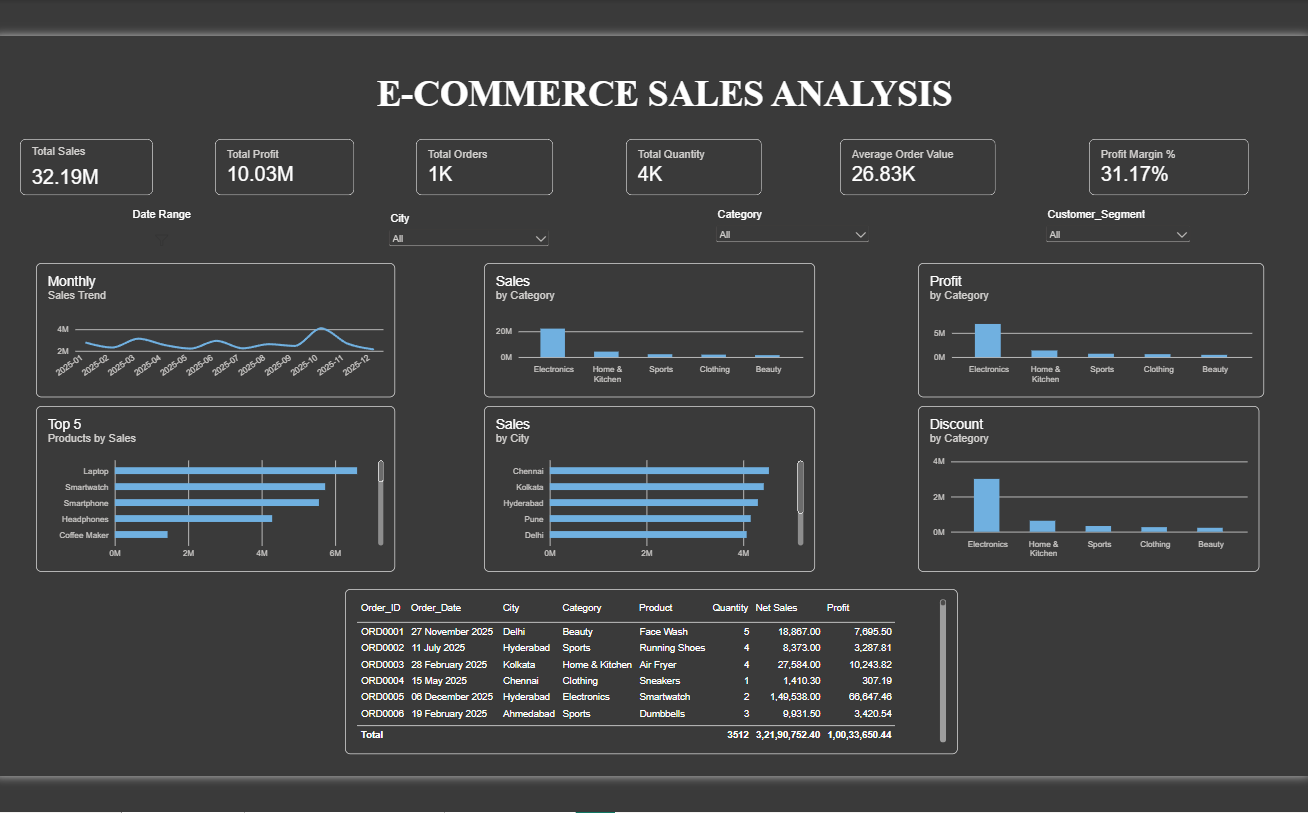

This screenshot's page, from the dashboard's own definition file:
{"tool":"powerbi","page":{"name":"Sales Overview","canvas":[1920,1080],"ordinal":0},"visuals":[{"type":"cardVisual","fields":{"Data":["DateTable.Total Sales"]},"box":[38.3,150.2,194.4,82.5],"z":0},{"type":"cardVisual","fields":{"Data":["DateTable.Total Profit"]},"box":[322.9,150.2,203.2,82.5],"z":1000},{"type":"cardVisual","fields":{"Data":["DateTable.Total Orders Display"]},"box":[615.5,150.2,200.2,82.5],"z":2000},{"type":"cardVisual","fields":{"Data":["DateTable.Total Quantity"]},"box":[921.7,150.2,198.3,82.5],"z":3000},{"type":"cardVisual","fields":{"Data":["DateTable.Average Order Value"]},"box":[1233.9,150.2,227.7,82.5],"z":4000},{"type":"cardVisual","fields":{"Data":["DateTable.Profit Margin %"]},"box":[1597.1,150.2,233.6,82.5],"z":5000},{"type":"lineChart","title":"Monthly","fields":{"Category":["DateTable.Year Month"],"Y":["DateTable.Total Sales"]},"box":[60.9,331.8,524.2,196.3],"z":6000},{"type":"columnChart","title":"Sales","fields":{"Category":["ecommerce_sales_cleaned.Category"],"Y":["DateTable.Total Sales"]},"box":[715.6,331.8,482.9,196.3],"z":7000},{"type":"clusteredColumnChart","title":"Profit","fields":{"Category":["ecommerce_sales_cleaned.Category"],"Y":["DateTable.Total Profit"]},"box":[1347.7,331.8,504.5,196.3],"z":8000},{"type":"clusteredBarChart","title":"Top 5","fields":{"Category":["ecommerce_sales_cleaned.Product"],"Y":["DateTable.Total Sales"]},"box":[60.9,539.9,524.2,242.5],"z":9000},{"type":"clusteredBarChart","title":"Sales","fields":{"Category":["ecommerce_sales_cleaned.City"],"Y":["DateTable.Total Sales"]},"box":[715.6,539.9,482.9,242.5],"z":10000},{"type":"clusteredColumnChart","title":"Discount","fields":{"Category":["ecommerce_sales_cleaned.Category"],"Y":["DateTable.Total Discount"]},"box":[1347.7,539.9,497.7,242.5],"z":11000},{"type":"tableEx","fields":{"Values":["ecommerce_sales_cleaned.Order_ID","ecommerce_sales_cleaned.Order_Date","ecommerce_sales_cleaned.City","ecommerce_sales_cleaned.Category","ecommerce_sales_cleaned.Product","Sum(ecommerce_sales_cleaned.Quantity)","Sum(ecommerce_sales_cleaned.Net_Sales)","Sum(ecommerce_sales_cleaned.Profit)"]},"box":[512.4,806.9,894.2,241.5],"z":12000},{"type":"actionButton","box":[0,0,100,40],"z":13000},{"type":"textbox","box":[538.4,39.4,868.1,99.2],"z":14000},{"type":"slicer","title":"Date Range","fields":{"Values":["DateTable.Date"]},"box":[135.5,251.3,217.9,60.9],"z":14001},{"type":"slicer","fields":{"Values":["ecommerce_sales_cleaned.City"]},"box":[570.3,256.2,245.4,59.9],"z":14002},{"type":"slicer","fields":{"Values":["ecommerce_sales_cleaned.Category"]},"box":[1047.4,251.3,234.6,64.8],"z":14003},{"type":"slicer","fields":{"Values":["ecommerce_sales_cleaned.Customer_Segment"]},"box":[1528.3,251.3,221.8,64.8],"z":14004}]}

Visuals, with their boxes on the page's 1920x1080 design canvas (x1, y1, x2, y2). These are canvas units, not pixel positions in the 1308x813 screenshot, which may show the page scaled, cropped or inside an application window:
cardVisual - DateTable.Total Sales: 38:150:233:233
cardVisual - DateTable.Total Profit: 323:150:526:233
cardVisual - DateTable.Total Orders Display: 616:150:816:233
cardVisual - DateTable.Total Quantity: 922:150:1120:233
cardVisual - DateTable.Average Order Value: 1234:150:1462:233
cardVisual - DateTable.Profit Margin %: 1597:150:1831:233
"Monthly" lineChart: 61:332:585:528
"Sales" columnChart: 716:332:1198:528
"Profit" clusteredColumnChart: 1348:332:1852:528
"Top 5" clusteredBarChart: 61:540:585:782
"Sales" clusteredBarChart: 716:540:1198:782
"Discount" clusteredColumnChart: 1348:540:1845:782
tableEx - ecommerce_sales_cleaned.Order_ID x ecommerce_sales_cleaned.Order_Date: 512:807:1407:1048
actionButton: 0:0:100:40
textbox: 538:39:1406:139
"Date Range" slicer: 136:251:353:312
slicer - ecommerce_sales_cleaned.City: 570:256:816:316
slicer - ecommerce_sales_cleaned.Category: 1047:251:1282:316
slicer - ecommerce_sales_cleaned.Customer_Segment: 1528:251:1750:316
